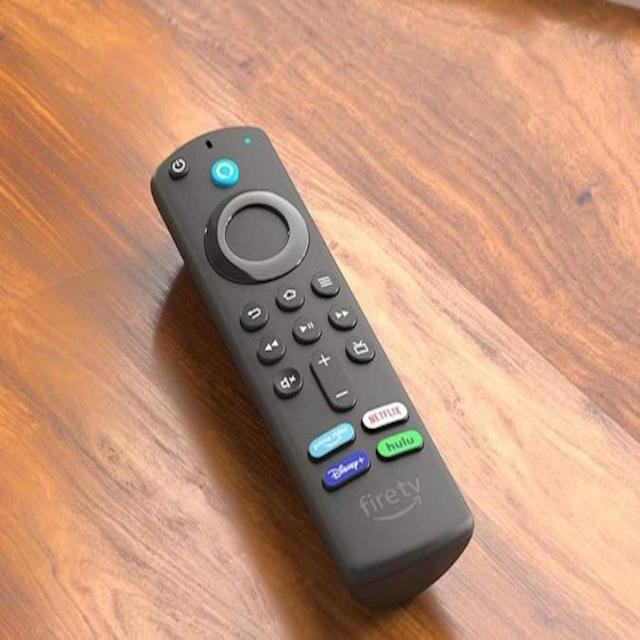remote: (153, 122, 478, 618)
